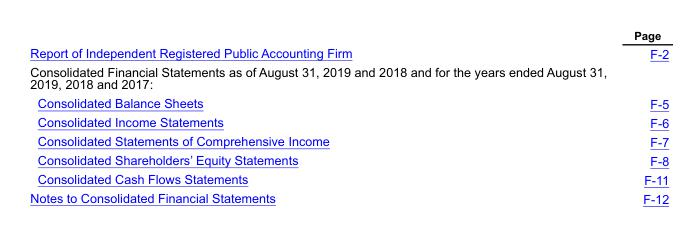table: (29, 28, 668, 205)
table column: (29, 28, 492, 205), (492, 28, 668, 205)
table column header: (29, 28, 668, 62)
table projected row header: (29, 62, 668, 93)
table row: (29, 28, 668, 62), (29, 62, 668, 93), (29, 93, 668, 112), (29, 112, 668, 131), (29, 131, 668, 150), (29, 150, 668, 169), (29, 169, 668, 188), (29, 188, 668, 205)
